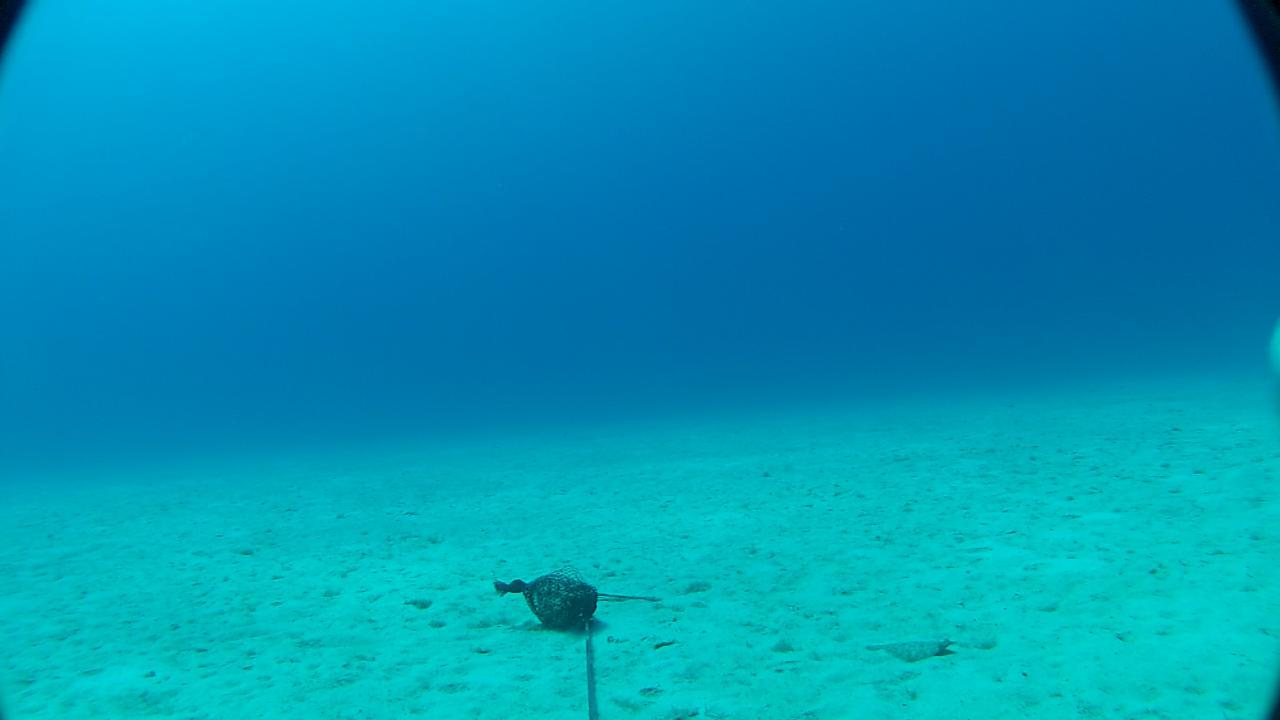bothus: (862, 629, 963, 666)
